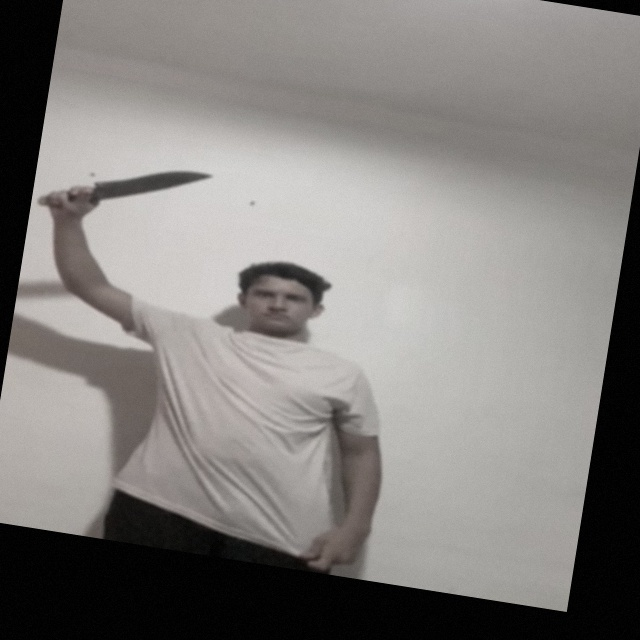Sharp-Object: (98, 155, 213, 208)
